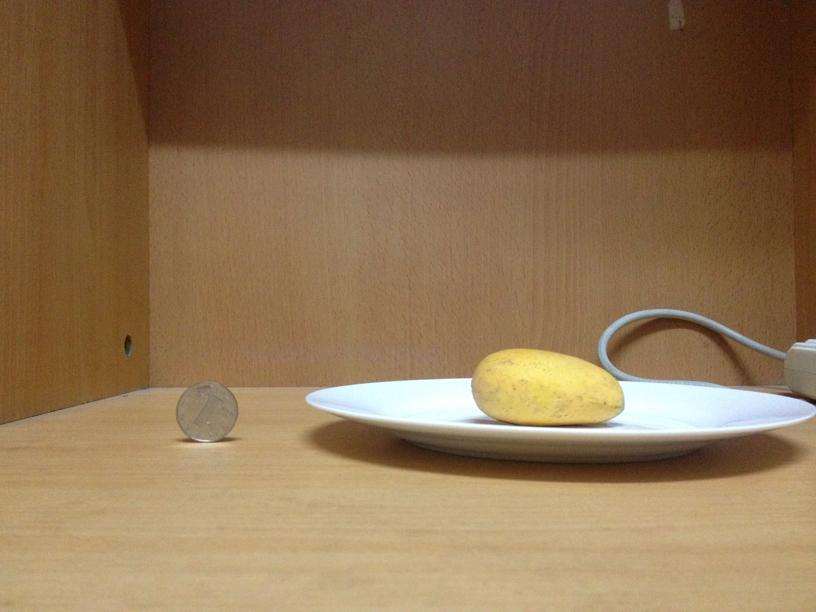coin: (175, 381, 239, 441)
mango: (468, 348, 624, 425)
